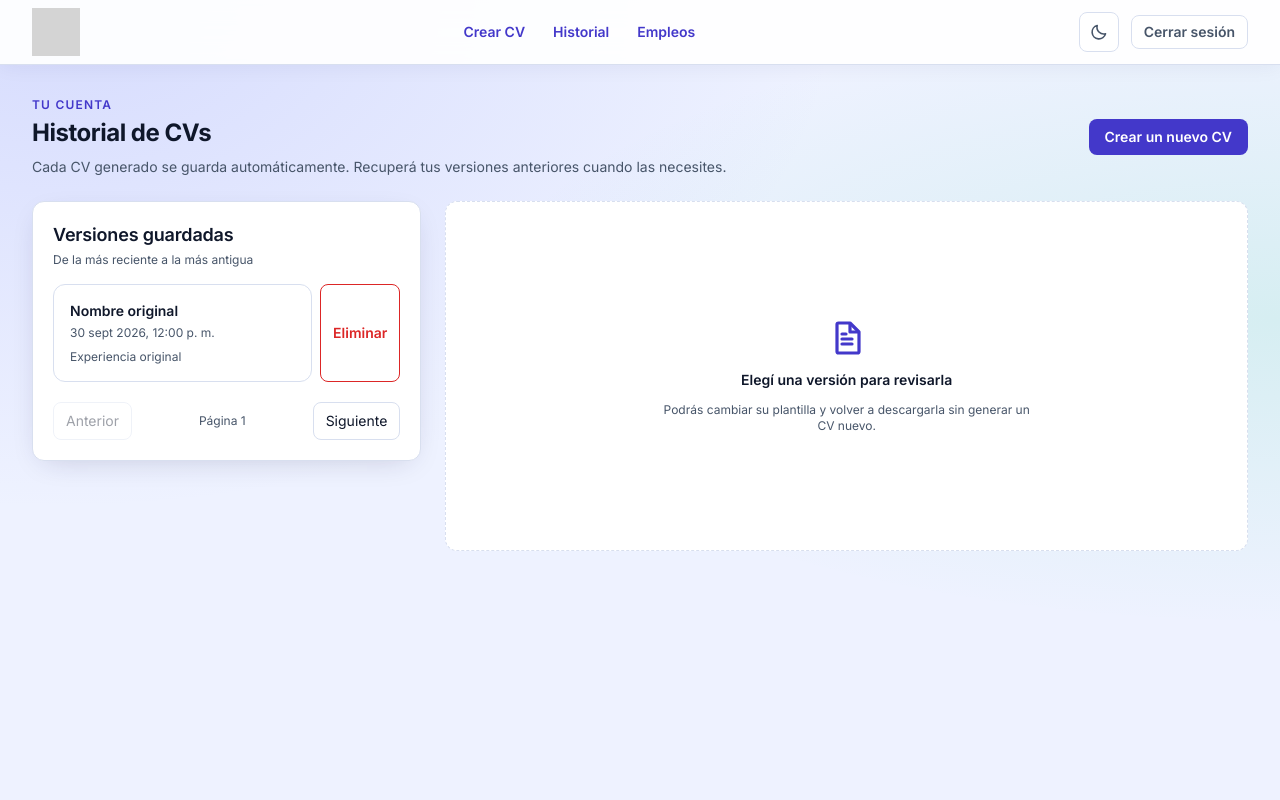
Test case: Historial de CVs › navega entre páginas
Expected: the button with test id "history-item-resume-a" is shown, [53,284,312,382]
Click the button with test id "history-next" at (356, 421), box [313,402,400,440]
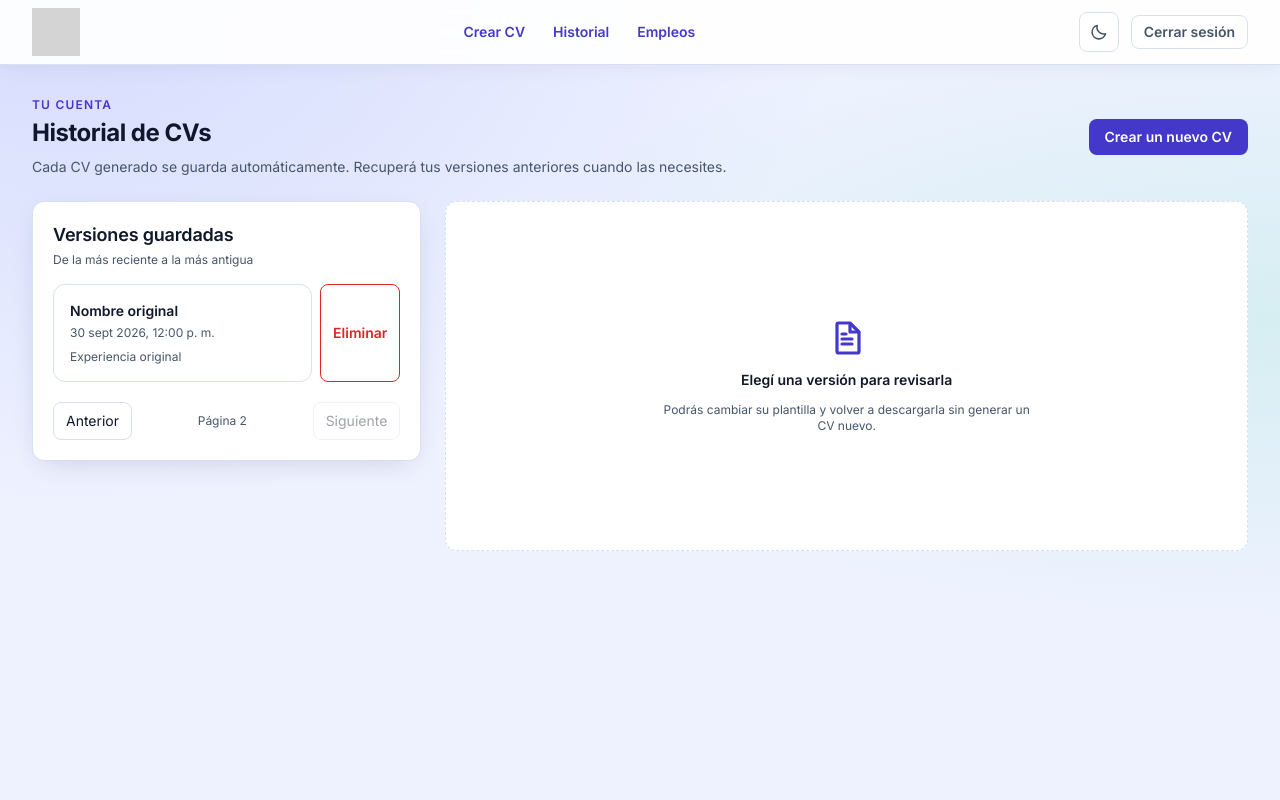
Now the button with test id "history-previous" is enabled, box [53,402,132,440]
